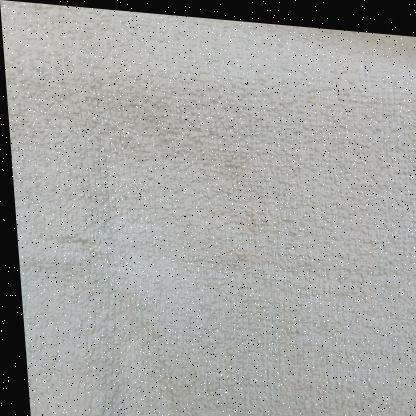spot: (237, 206, 261, 232)
